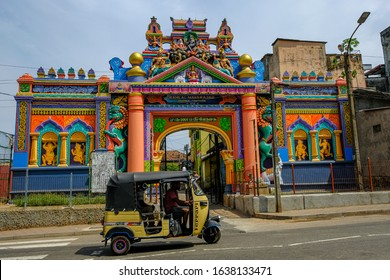threewheel: (99, 170, 223, 255)
